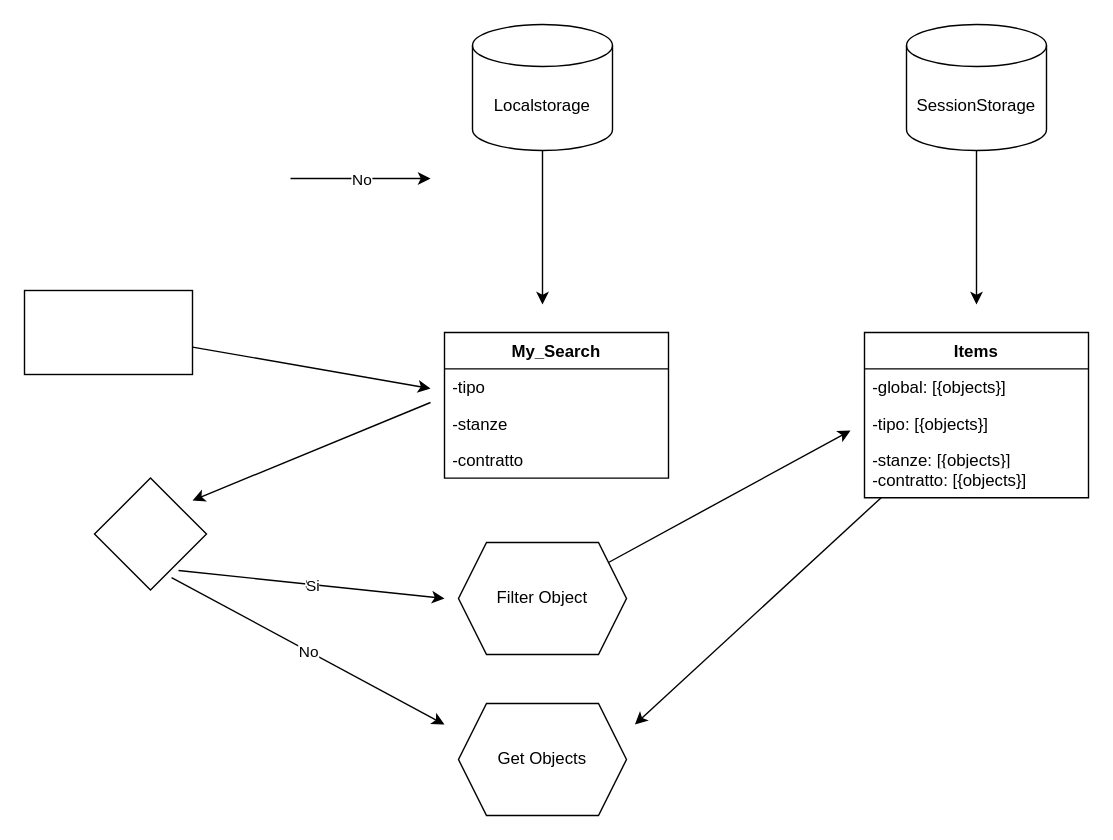
This 1113x840 diagram has some shape labels left out. The centre of each missing label's shape, as x and y in pixels:
Edited_types: the point at 107,331
is Empty?: the point at 149,533
